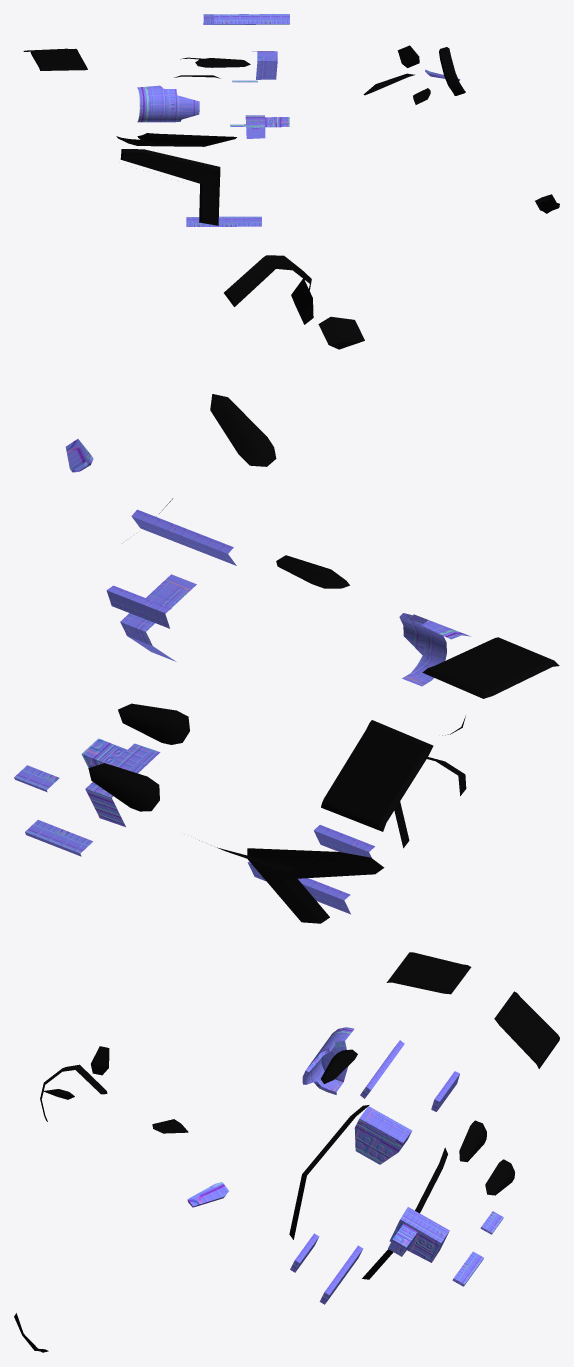
File: prop_static_ama_shipwreck_01_01.glb
The picture shows the model from 3 angles, top to bottom: view 1: azimuth 30°, elevation 25°; view 2: azimuth 150°, elevation 25°; view 3: azimuth 270°, elevation 25°; orthographic projection. The views are drawn at different scales.
Parts seen in each view (by area): view 1: ama_ship_wreck_01_01_LOD0, ama_ship_wreck_detail_01_01_LOD0; view 2: ama_ship_wreck_01_01_LOD0, ama_ship_wreck_detail_01_01_LOD0; view 3: ama_ship_wreck_01_01_LOD0, ama_ship_wreck_detail_01_01_LOD0.
Boxes of the visible parts, bbox=[...] form: ama_ship_wreck_01_01_LOD0: bbox=[23, 45, 559, 225]; ama_ship_wreck_detail_01_01_LOD0: bbox=[137, 14, 460, 226]; ama_ship_wreck_01_01_LOD0: bbox=[88, 255, 559, 923]; ama_ship_wreck_detail_01_01_LOD0: bbox=[14, 439, 470, 914]; ama_ship_wreck_01_01_LOD0: bbox=[14, 952, 559, 1352]; ama_ship_wreck_detail_01_01_LOD0: bbox=[187, 1027, 503, 1304].
Size of what is drawn, in the model's own units: 7.54 by 4.4 by 7.3.
Materials: 2 (2 with a texture image).
